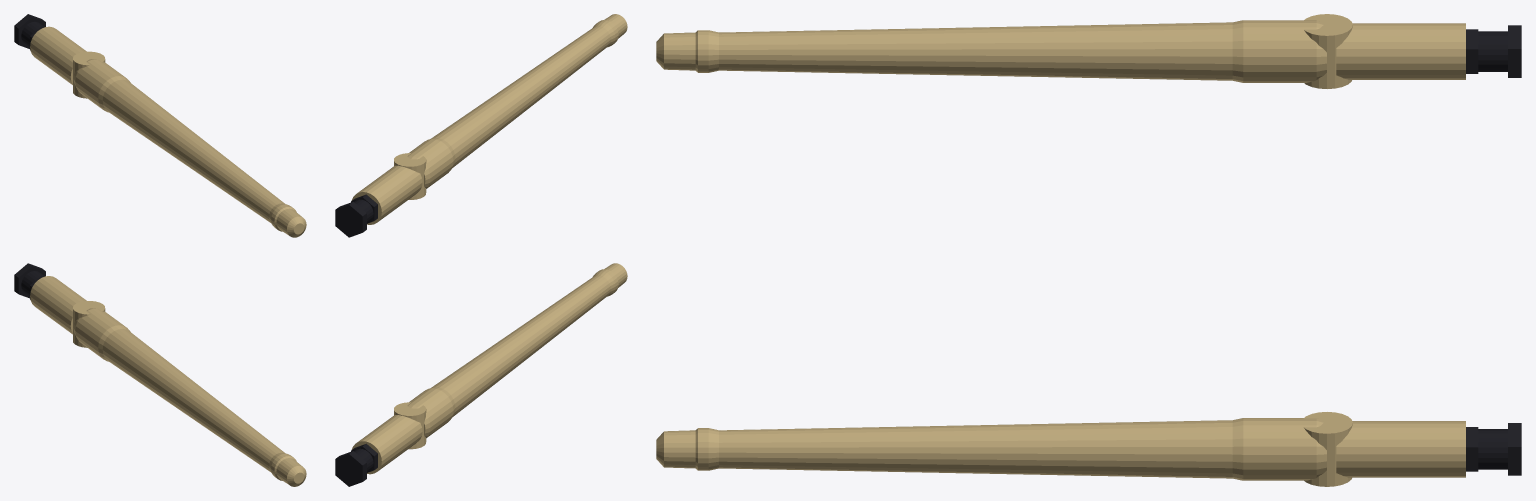
The model's file is antennas_vis.obj.
3 views of the same model, side by side, from view 1: azimuth 30°, elevation 25°; view 2: azimuth 150°, elevation 25°; view 3: azimuth 270°, elevation 25° (orthographic). The views are drawn at different scales.
Size of the model in its own units: 0.0102 by 0.0812 by 0.14.
Materials: 1 (1 with a texture image).
